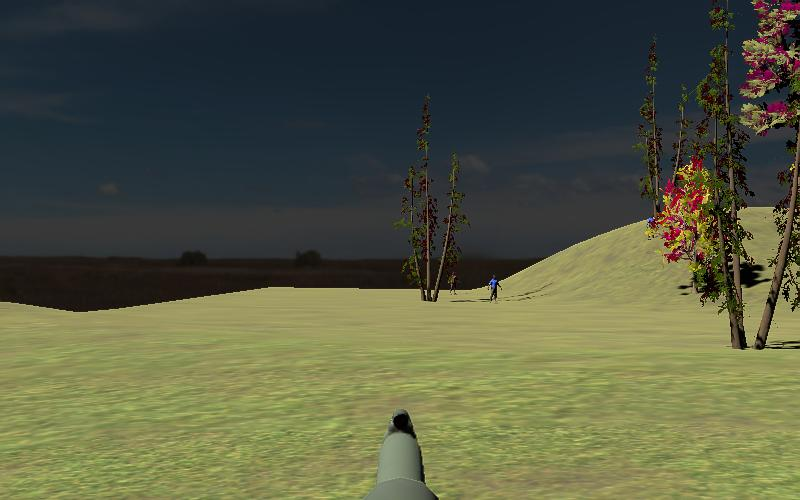Human: (487, 273, 503, 304)
